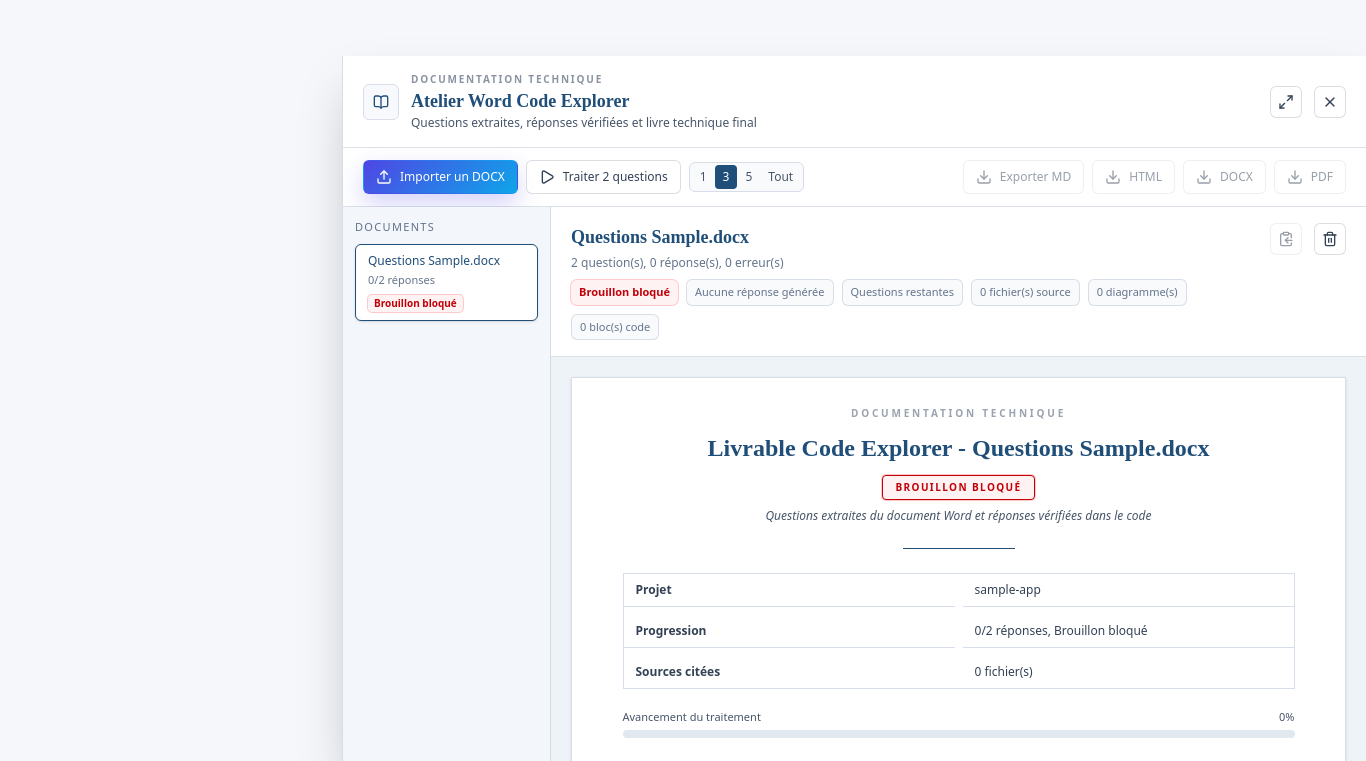
Scenario: WorkDocumentsPanel › shows live batch progress while a question is still running
Step 1. Click the button "Traiter 2 questions" → (603, 177), box 526,160 -> 681,194
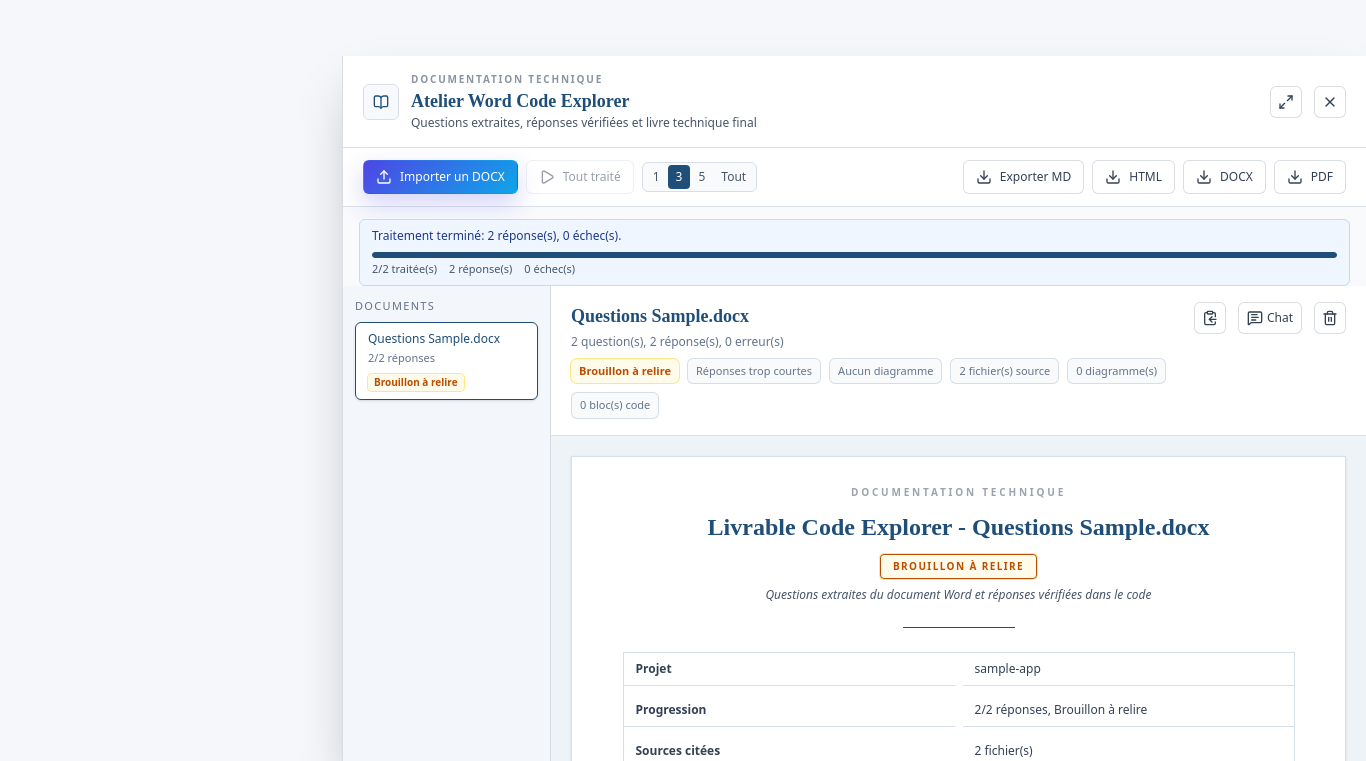
Result: the text "Traitement en cours: Q1.1 (1/2)" is shown at 359,219 -> 1350,286
Result: the text "0 réponse(s)" is shown at 449,262 -> 512,277
Result: the text "0 échec(s)" is shown at 524,262 -> 575,277
